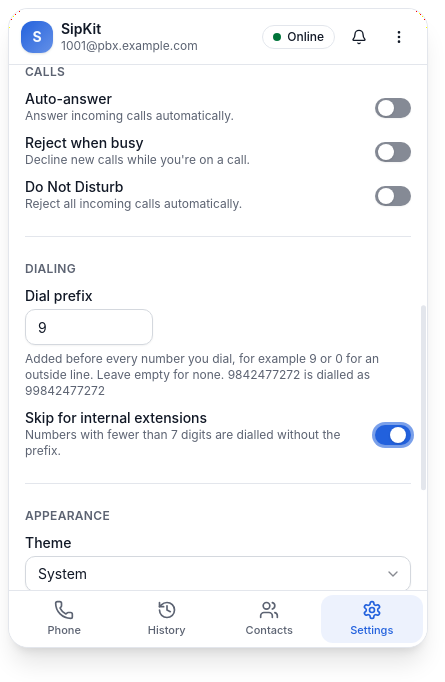
dial prefix › is set in Settings, saved per account, and shown in the dialer
Earlier steps of the test are not shown.
(page scrolled)
Click the tab "Phone": (64, 619) [13,595,116,643]
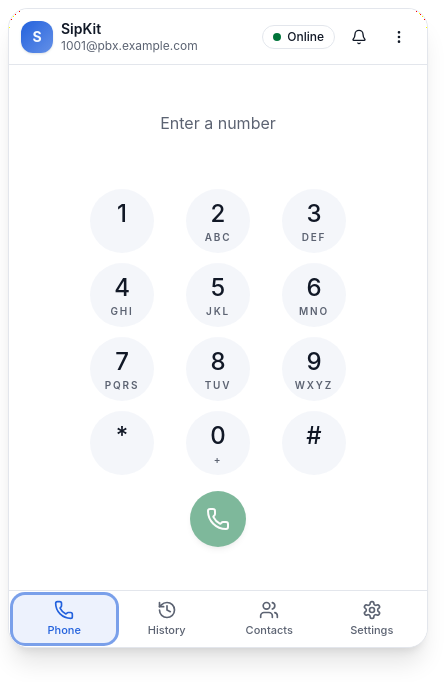
In the dropdown named "Number to dial": (218, 120) [25,96,411,144], type "1002"
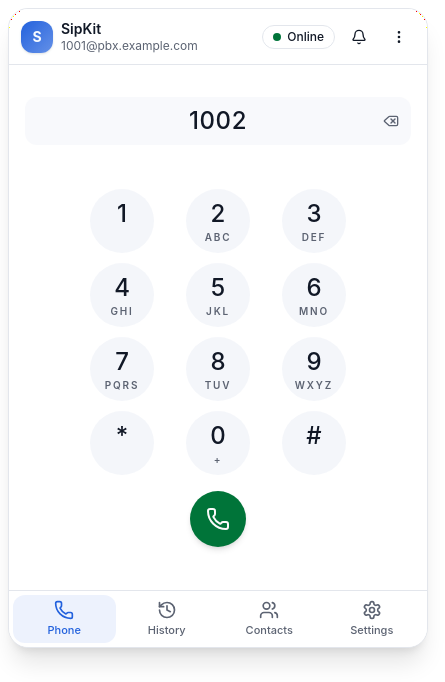
Expected: the text "Dials as" is not shown
Replace the text in the dropdown named "Number to dial" with "9842477272": (218, 120) [25,96,411,144]
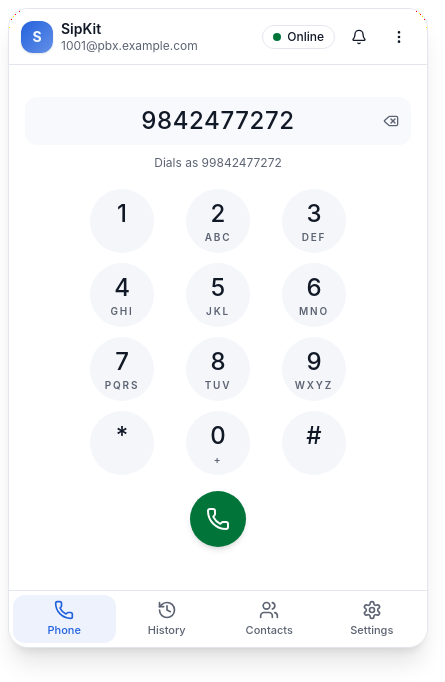
Now the text "Dials as 99842477272" is shown, box [154,154,282,170]
